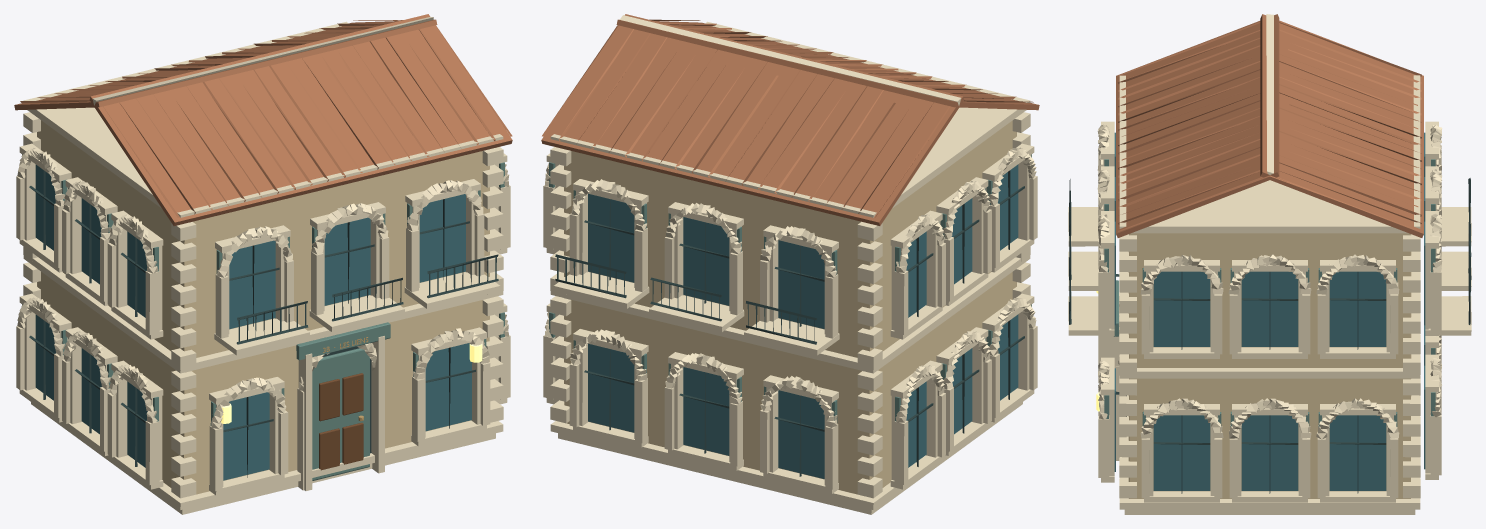
Rendered from espagne-2-lod.glb.
The picture shows the model from 3 angles, left to right: view 1: azimuth 30°, elevation 25°; view 2: azimuth 150°, elevation 25°; view 3: azimuth 270°, elevation 25°; orthographic projection. The views are drawn at different scales.
Visible parts, largest first — view 1: espagne-2_Dressed stone.001, espagne-2_Regional roof.001, espagne-2_Masonry plaster.001, espagne-2_Window blue.001, espagne-2_Regional painted wood.001, espagne-2_Forged midnight.001, espagne-2_Walnut.001; view 2: espagne-2_Dressed stone.001, espagne-2_Regional roof.001, espagne-2_Masonry plaster.001, espagne-2_Window blue.001, espagne-2_Forged midnight.001, espagne-2_Regional painted wood.001; view 3: espagne-2_Dressed stone.001, espagne-2_Regional roof.001, espagne-2_Window blue.001, espagne-2_Masonry plaster.001, espagne-2_Forged midnight.001, espagne-2_Regional painted wood.001.
Boxes of the visible parts, x1,y1,x2,y2 form: espagne-2_Dressed stone.001: (16,16,510,514); espagne-2_Regional roof.001: (14,14,512,225); espagne-2_Masonry plaster.001: (37,120,489,494); espagne-2_Window blue.001: (35,164,471,480); espagne-2_Regional painted wood.001: (22,154,504,480); espagne-2_Forged midnight.001: (29,170,498,477); espagne-2_Walnut.001: (319,373,363,470); espagne-2_Dressed stone.001: (543,15,1037,514); espagne-2_Regional roof.001: (541,14,1039,225); espagne-2_Masonry plaster.001: (564,120,1016,494); espagne-2_Window blue.001: (588,164,1018,478); espagne-2_Forged midnight.001: (555,170,1024,476); espagne-2_Regional painted wood.001: (549,154,1031,422); espagne-2_Dressed stone.001: (1068,14,1471,514); espagne-2_Regional roof.001: (1116,14,1423,237); espagne-2_Window blue.001: (1114,132,1425,490); espagne-2_Masonry plaster.001: (1128,233,1411,498); espagne-2_Forged midnight.001: (1069,178,1471,493); espagne-2_Regional painted wood.001: (1104,159,1435,426).
Bounding box in the file's own units: 14.19 × 13.61 × 14.21.
